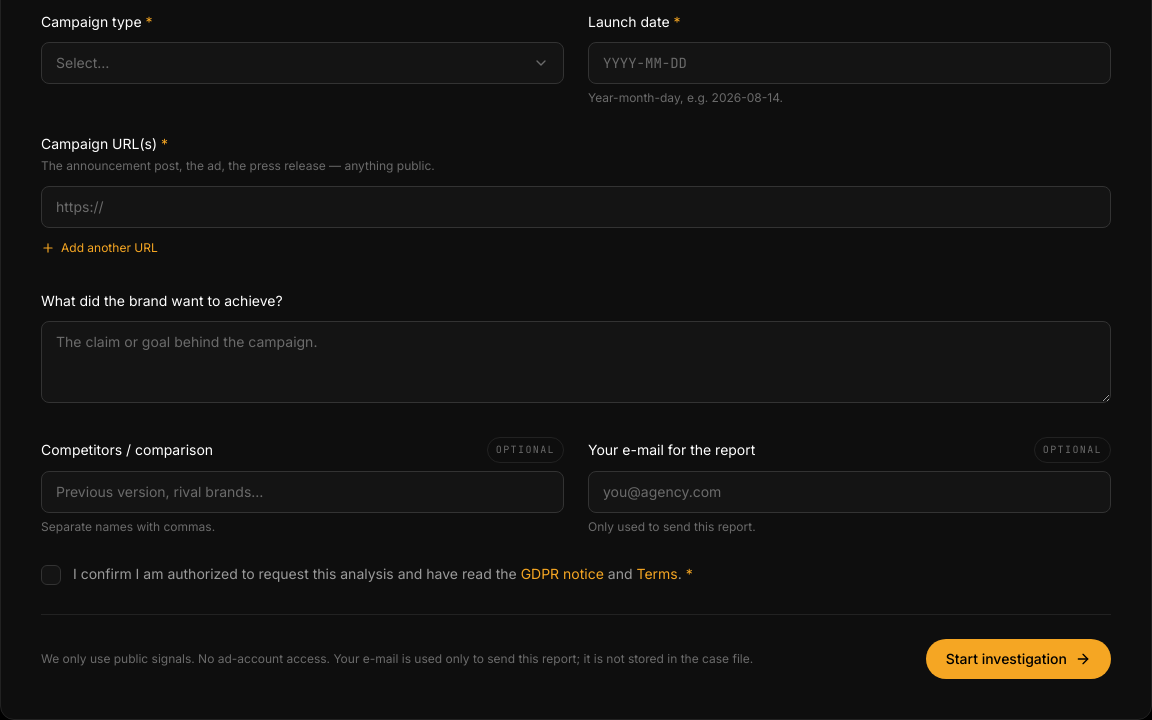
it: NewCaseForm › clears an error live once the user fixes the field
(page scrolled)
Click the button "Start investigation" at (1018, 659), box [926,639,1111,679]
(page scrolled)
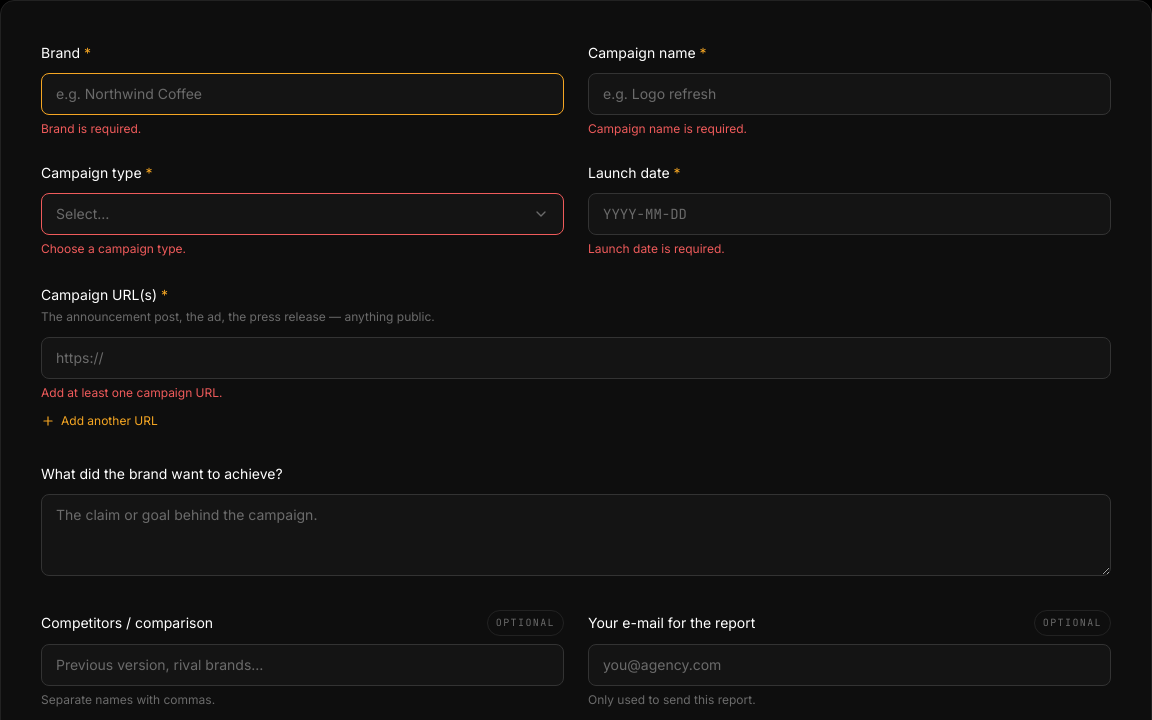
Type "X" into the field labelled "Brand *" at (302, 94), box [41,73,564,115]
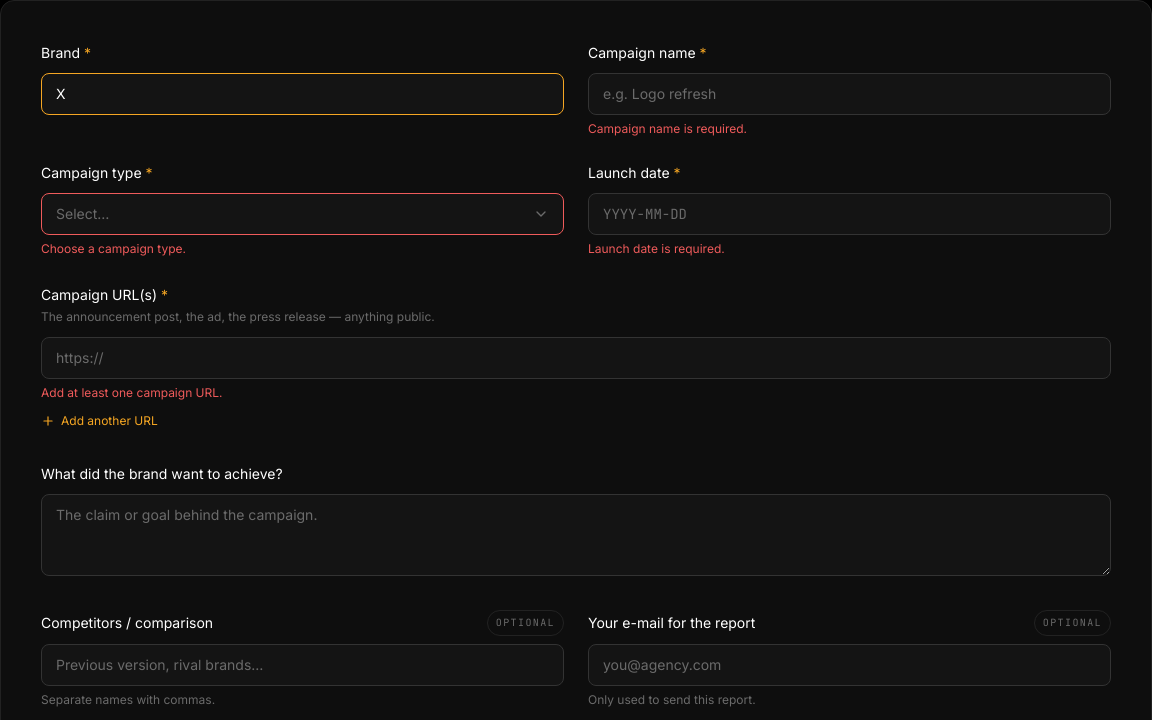
Now the text "Brand is required." is gone
